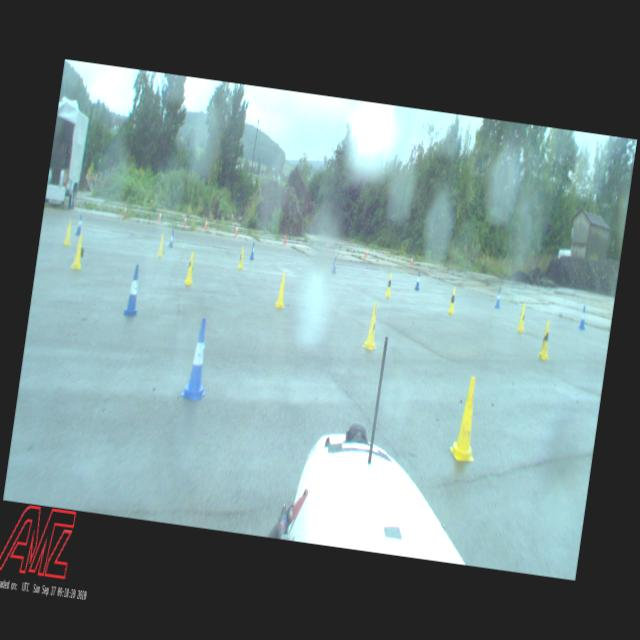blue_cone: (180, 316, 216, 402), (124, 265, 144, 317), (578, 306, 588, 330), (495, 286, 503, 308), (76, 214, 84, 236), (414, 271, 422, 290), (168, 229, 176, 248), (249, 242, 256, 260), (332, 256, 338, 274)
orange_cone: (409, 254, 414, 266), (283, 234, 288, 245), (158, 210, 162, 222), (204, 218, 208, 230), (235, 224, 239, 235), (184, 216, 188, 227), (124, 206, 128, 216), (365, 247, 368, 258)
yellow_cone: (448, 376, 485, 462), (362, 302, 382, 351), (537, 320, 554, 360), (274, 272, 290, 308), (71, 233, 85, 270), (184, 251, 198, 285), (516, 303, 528, 332), (64, 219, 74, 245), (384, 273, 394, 298), (448, 288, 457, 314), (157, 233, 166, 257), (238, 247, 245, 269)
